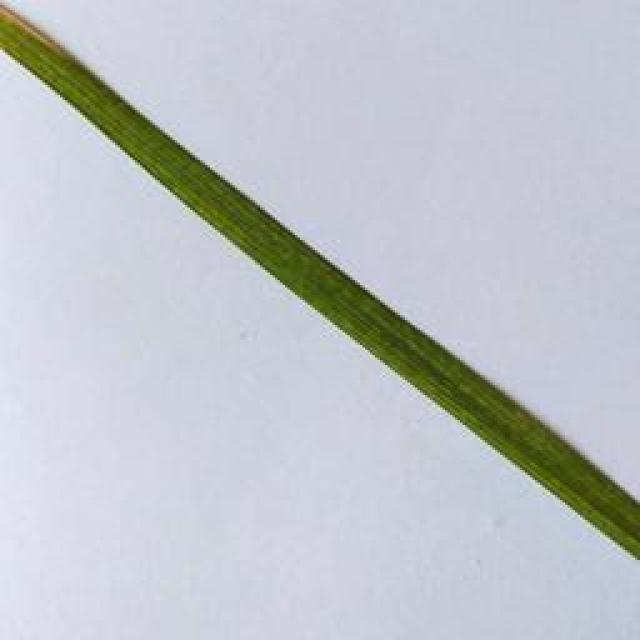Bacterial_Blight: (0, 0, 70, 64)
